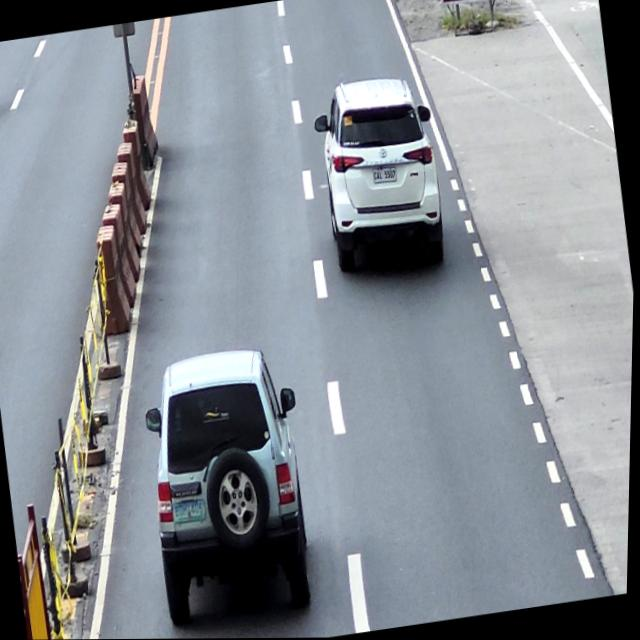Car: (135, 341, 327, 629), (307, 69, 453, 279)
License-Plate: (172, 496, 210, 526), (372, 164, 401, 187)
